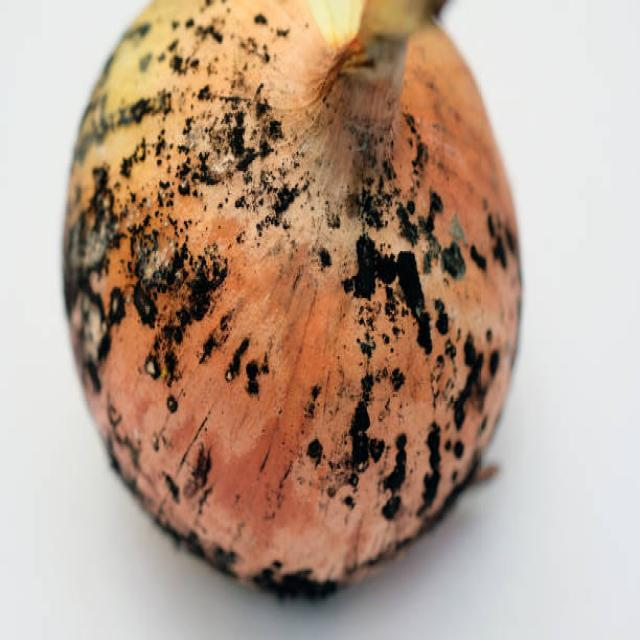mechanical_damage: (34, 0, 532, 640)
